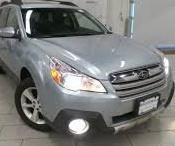SUV: (1, 1, 175, 140)
